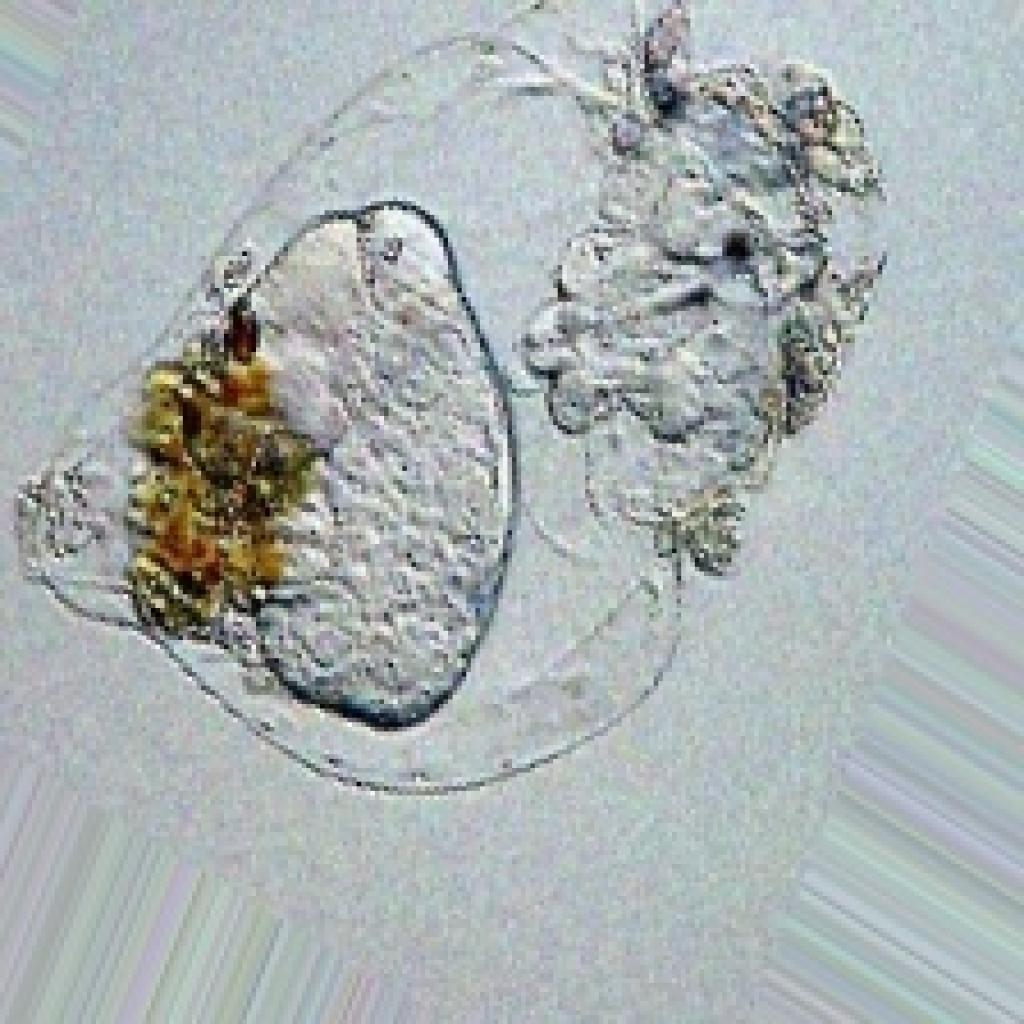Rotifer: (9, 2, 920, 836)
